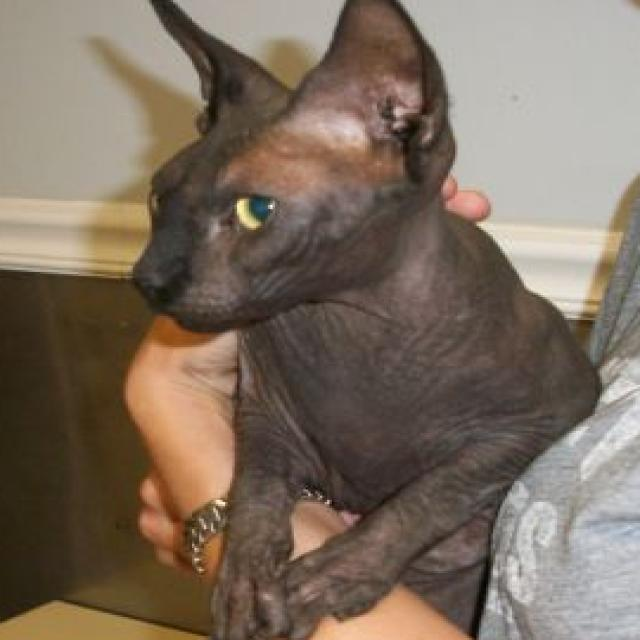Sphynx: (121, 0, 607, 640)
